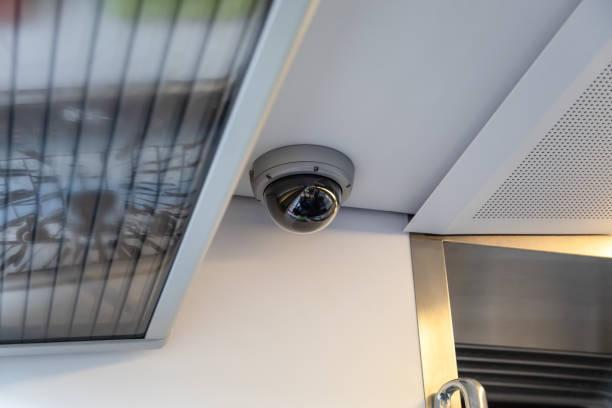camera: (241, 133, 366, 242)
